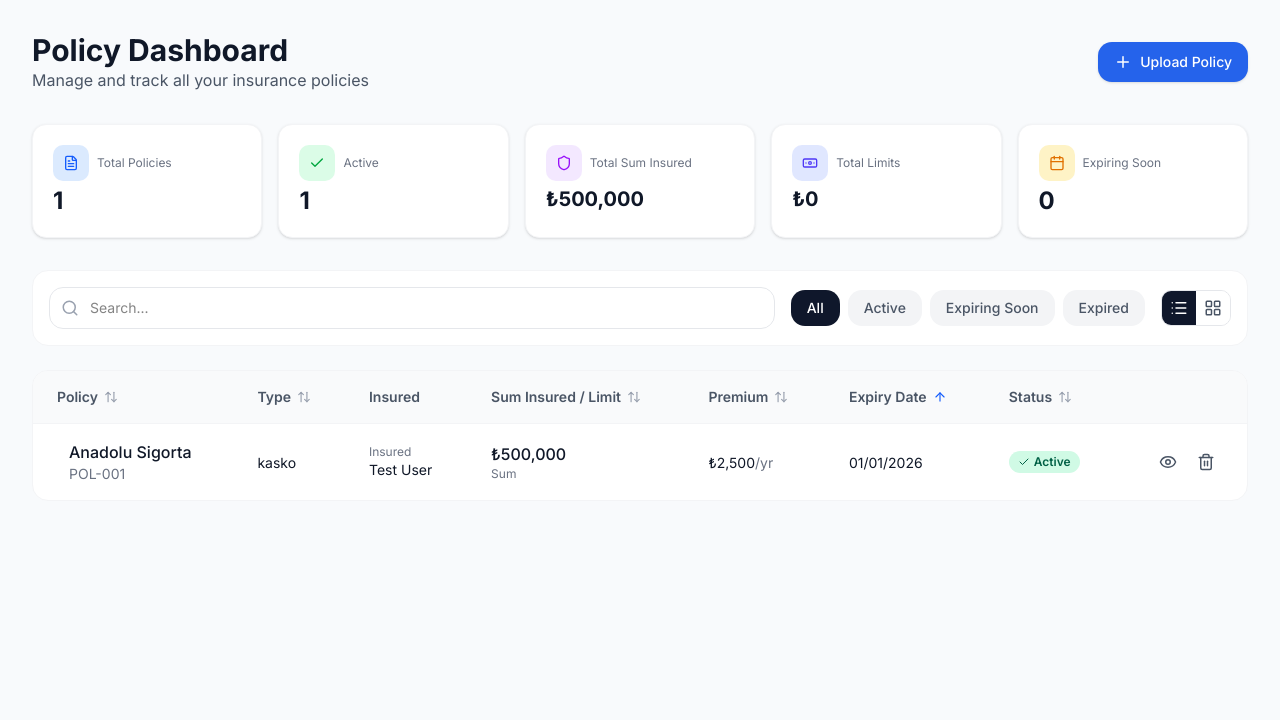
Test: PolicyDashboard Branch Coverage › Empty state › shows "adjust filters" when status filter applied produces no results
Click the button "Expired". click: click(1104, 308)
box: [1062,290,1145,326]
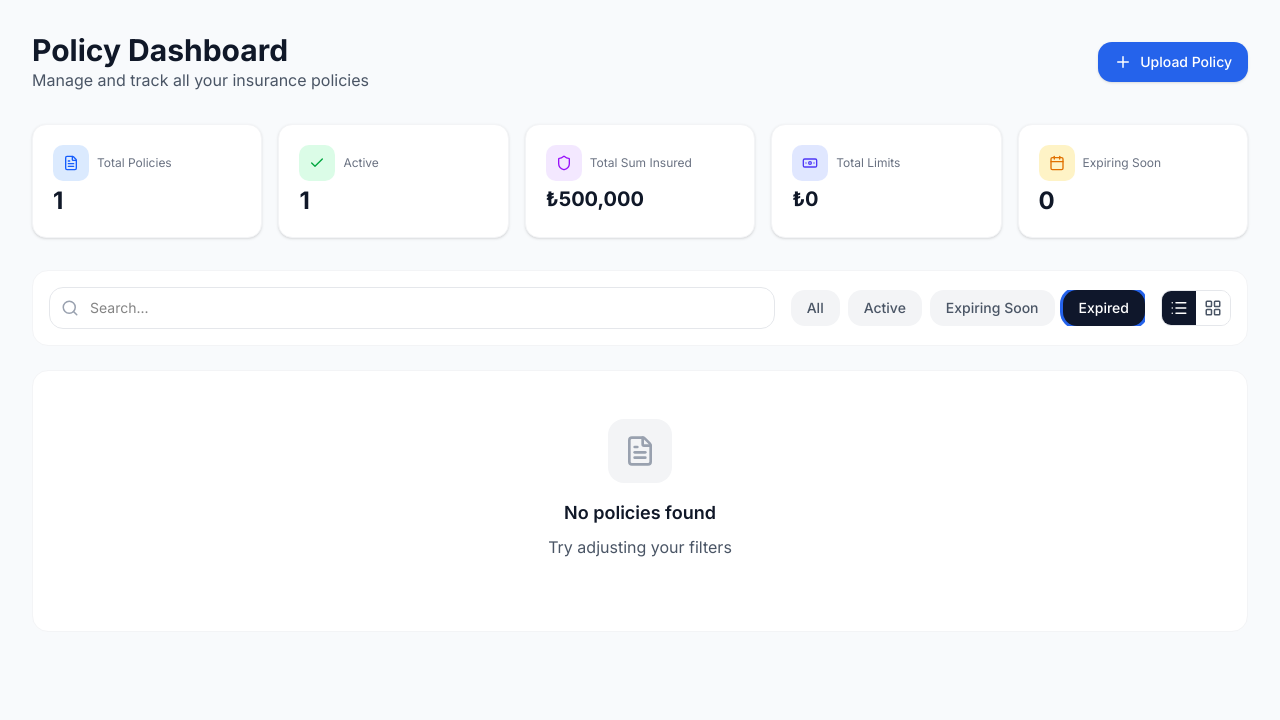
Expected: the text "Try adjusting your filters" is shown, [548,537,732,557]
